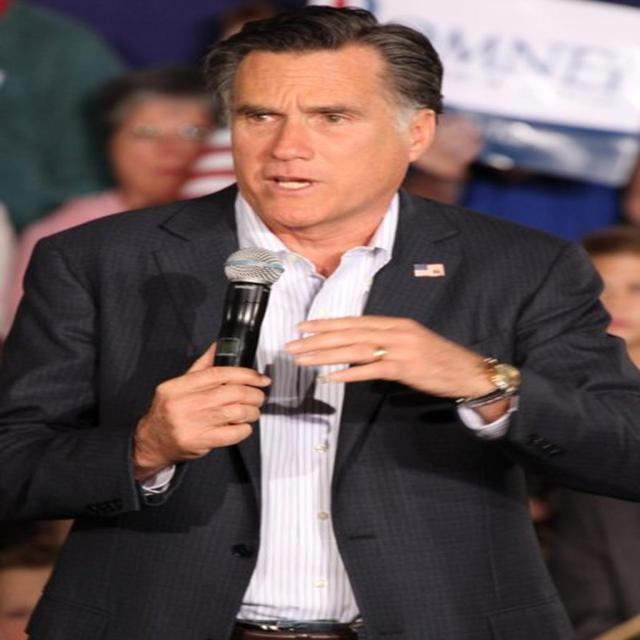Face: (189, 18, 425, 226)
